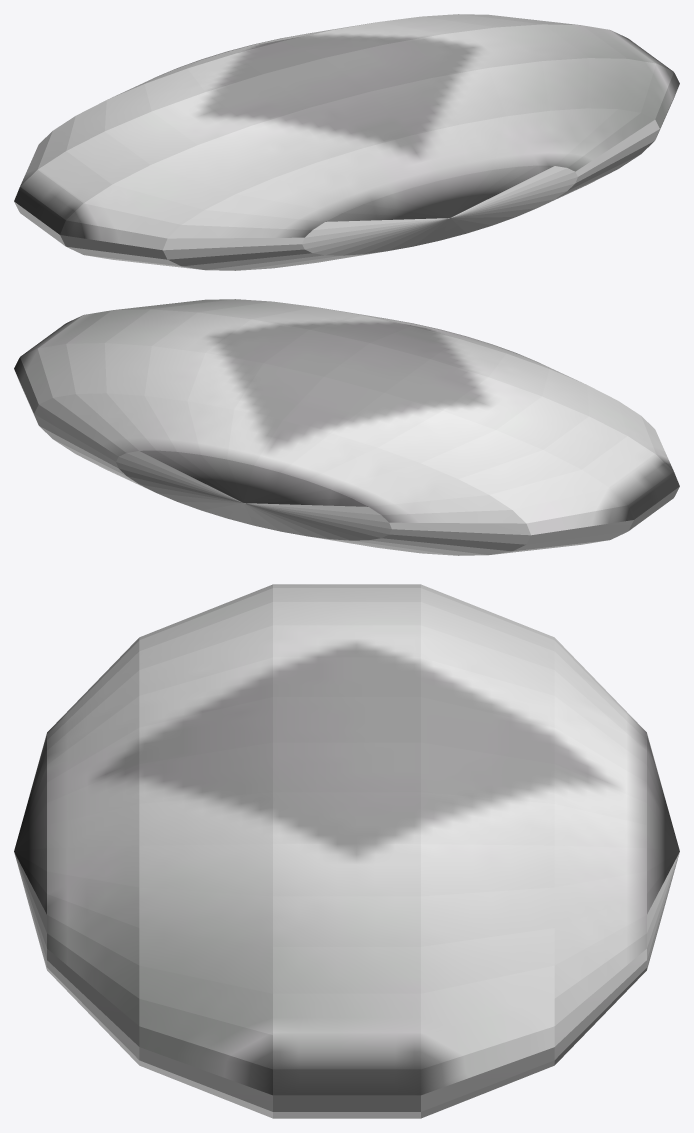
The model's file is Building_KneelPillow.obj.
The picture shows the model from 3 angles, top to bottom: view 1: azimuth 30°, elevation 25°; view 2: azimuth 150°, elevation 25°; view 3: azimuth 270°, elevation 25°; orthographic projection. The views are drawn at different scales.
Parts seen in each view (by area): view 1: Body; view 2: Body; view 3: Body.
Part boxes in pixels (bbox=[...]): Body: bbox=[14, 14, 679, 270]; Body: bbox=[14, 299, 679, 555]; Body: bbox=[14, 584, 679, 1118].
Bounding box in the file's own units: 0.9359 × 0.195 × 0.54.
Materials: 1 (1 with a texture image).
